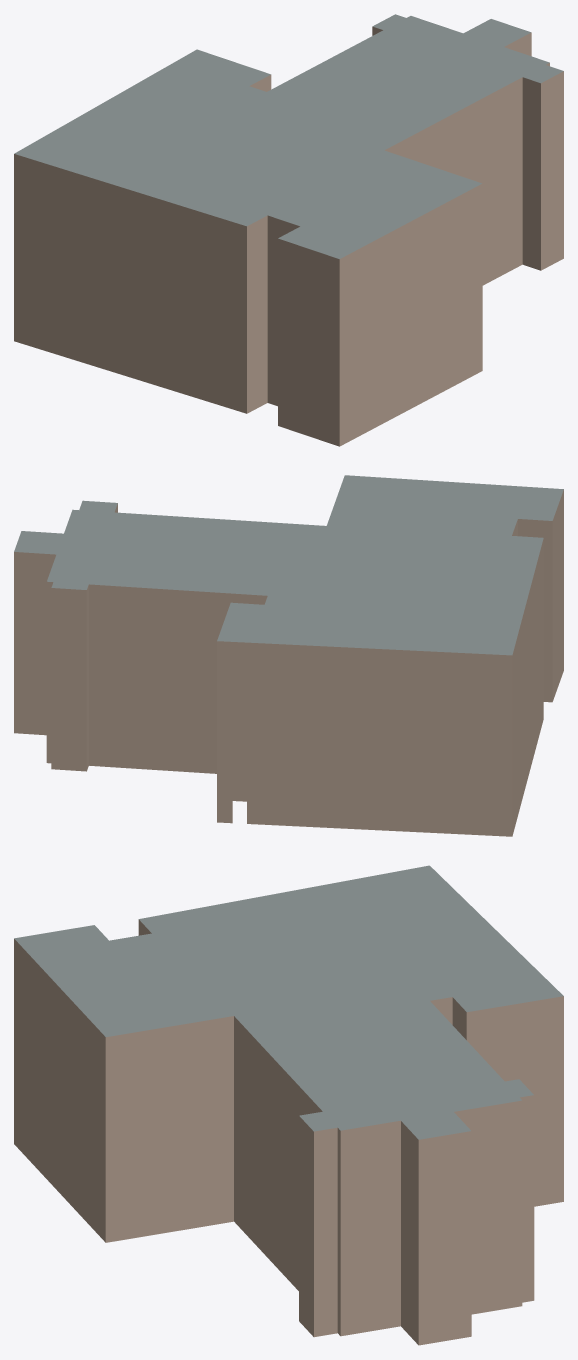
3 views of the same model, one above another, from view 1: azimuth 30°, elevation 25°; view 2: azimuth 150°, elevation 25°; view 3: azimuth 270°, elevation 25° (orthographic). The views are drawn at different scales.
Parts seen in each view (by area): view 1: F1; view 2: F1; view 3: F1.
Part boxes in pixels (left/top/right/bottom): F1: left=14, top=14, right=563, bottom=446; F1: left=14, top=475, right=563, bottom=836; F1: left=14, top=865, right=563, bottom=1345.
Bounding box in the file's own units: 62.92 × 21.99 × 53.3.
